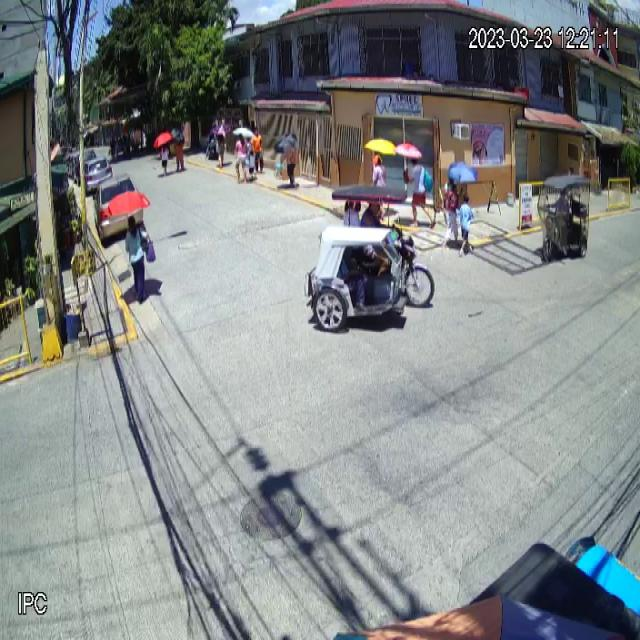Tricycle: (304, 186, 436, 327)
